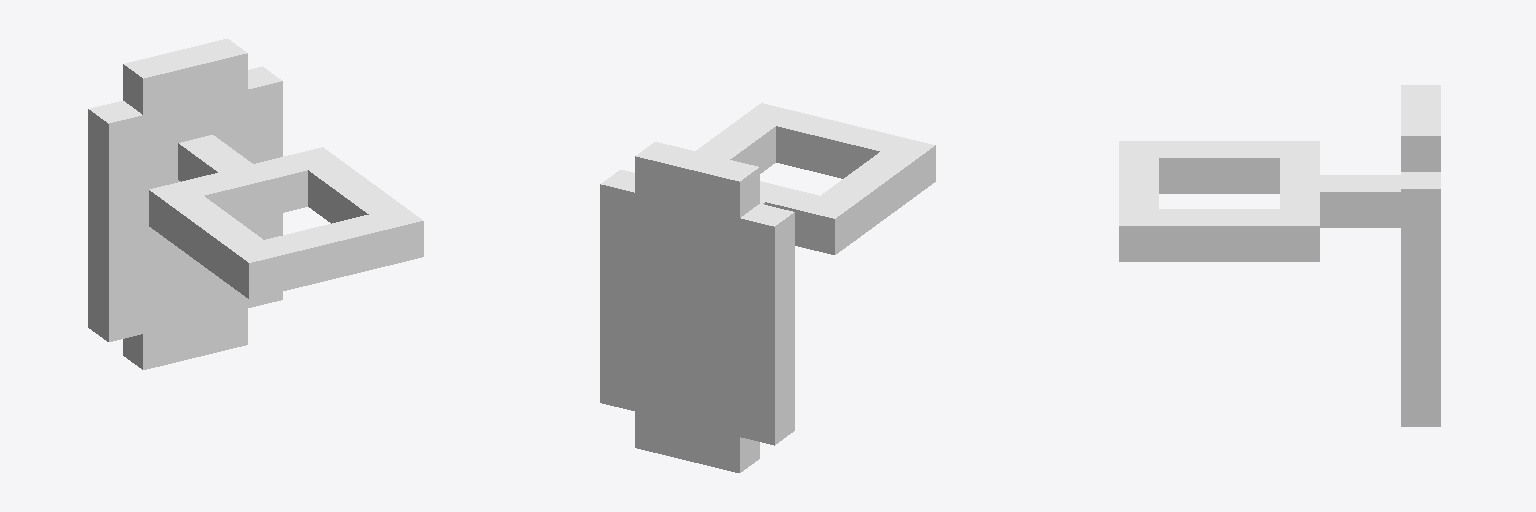
The model's file is Support2.obj.
3 views of the same model, side by side, from view 1: azimuth 30°, elevation 25°; view 2: azimuth 150°, elevation 25°; view 3: azimuth 270°, elevation 25° (orthographic).
Size of the model in its own units: 5 by 8 by 8.